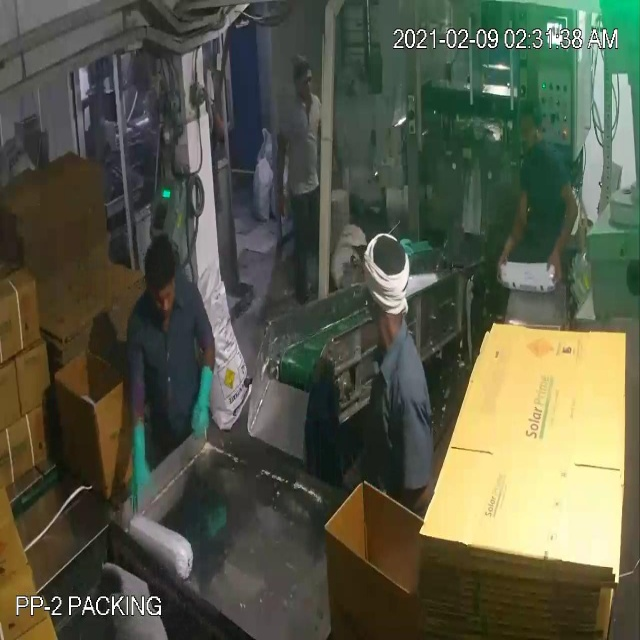Guantes: (115, 386, 164, 539), (182, 342, 220, 453)
Sin_guantes: (541, 174, 586, 300), (261, 116, 305, 233), (500, 180, 533, 279)
